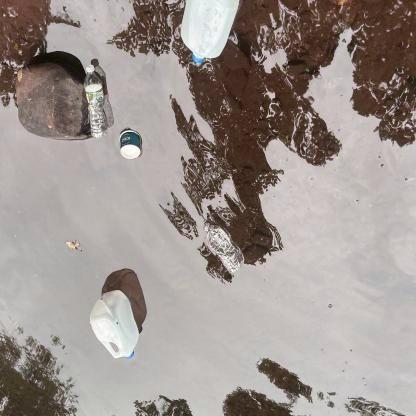Plastic: (86, 288, 143, 368), (178, 0, 242, 68), (202, 221, 247, 280), (82, 61, 110, 142)
Trash: (116, 126, 146, 165)
